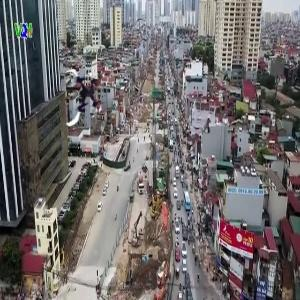drone: (54, 66, 111, 123)
